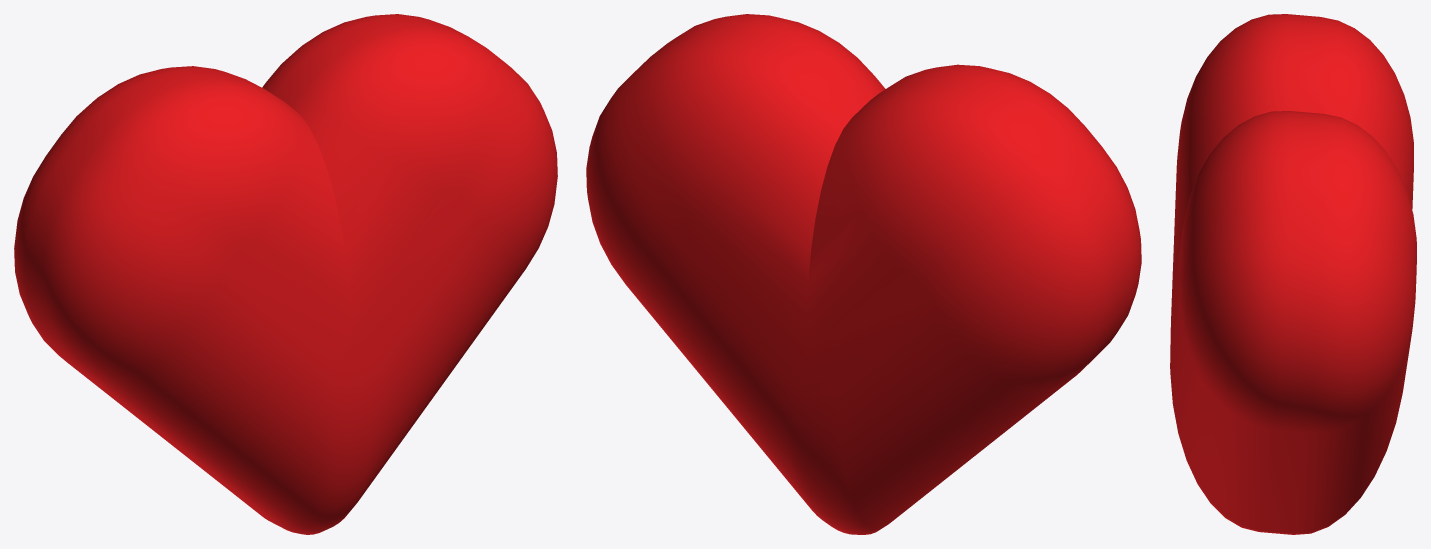
The model's file is heart.glb.
The picture shows the model from 3 angles, left to right: view 1: azimuth 30°, elevation 25°; view 2: azimuth 150°, elevation 25°; view 3: azimuth 270°, elevation 25°; orthographic projection. The views are drawn at different scales.
Parts seen in each view (by area): view 1: Heart; view 2: Heart; view 3: Heart.
Part boxes in pixels (box(x1,y1,x2,y2)): Heart: box(14, 14, 557, 534); Heart: box(586, 14, 1141, 534); Heart: box(1170, 14, 1416, 534).
Size of the model in its own units: 2.05 by 1.81 by 0.8904.
